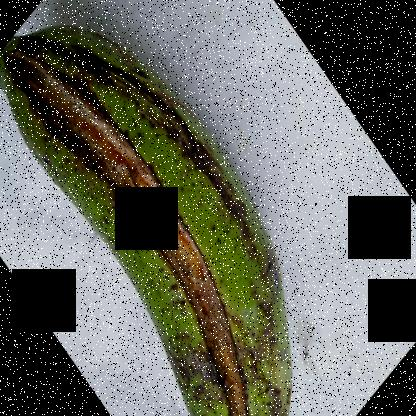rotten: (1, 51, 269, 415)
